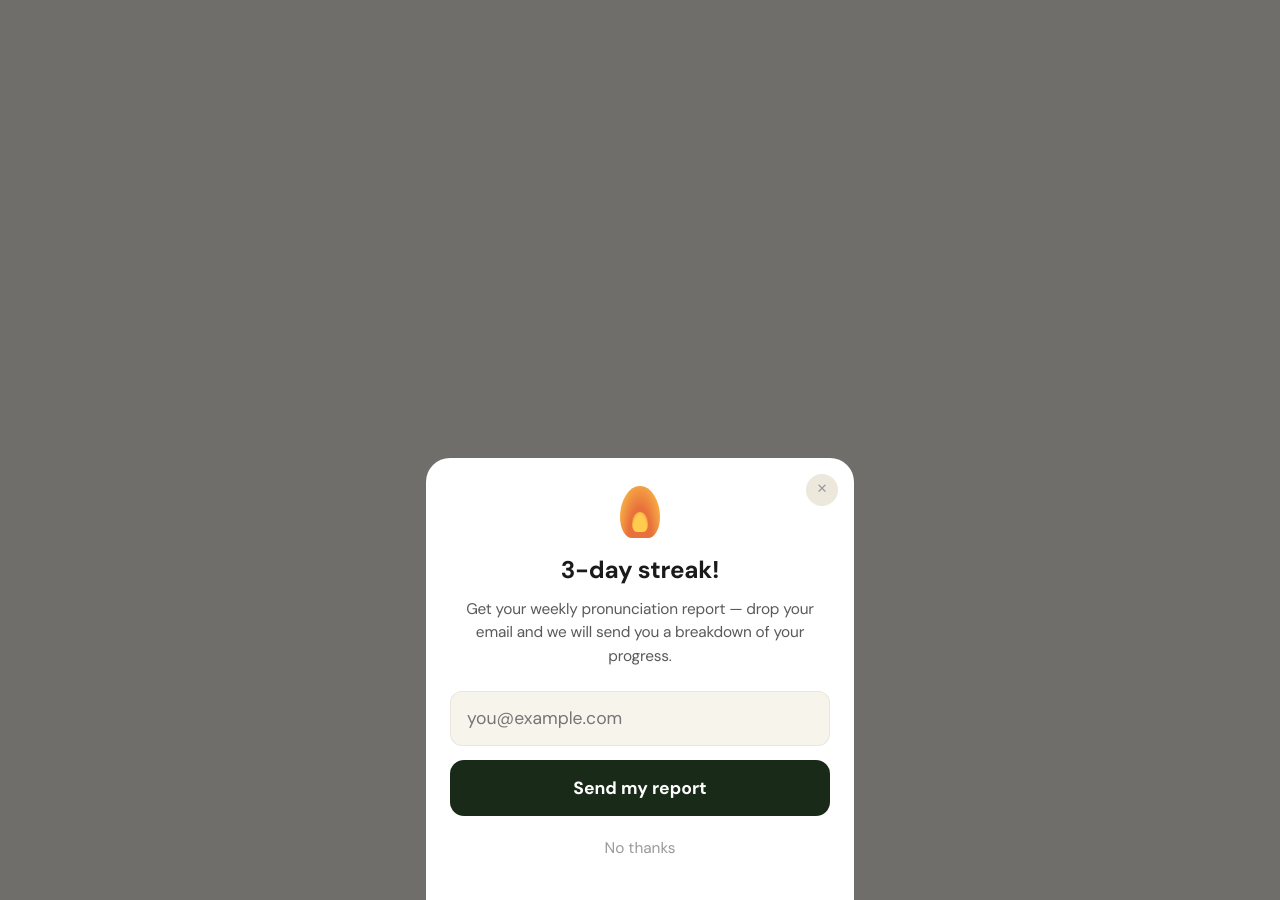
it: EmailCaptureModal › shows validation error for invalid email format
The width and height of the screenshot is (1280, 900).
Type "notanemail" into the field named "email address" at x=640, y=718, box [450,691,830,746]
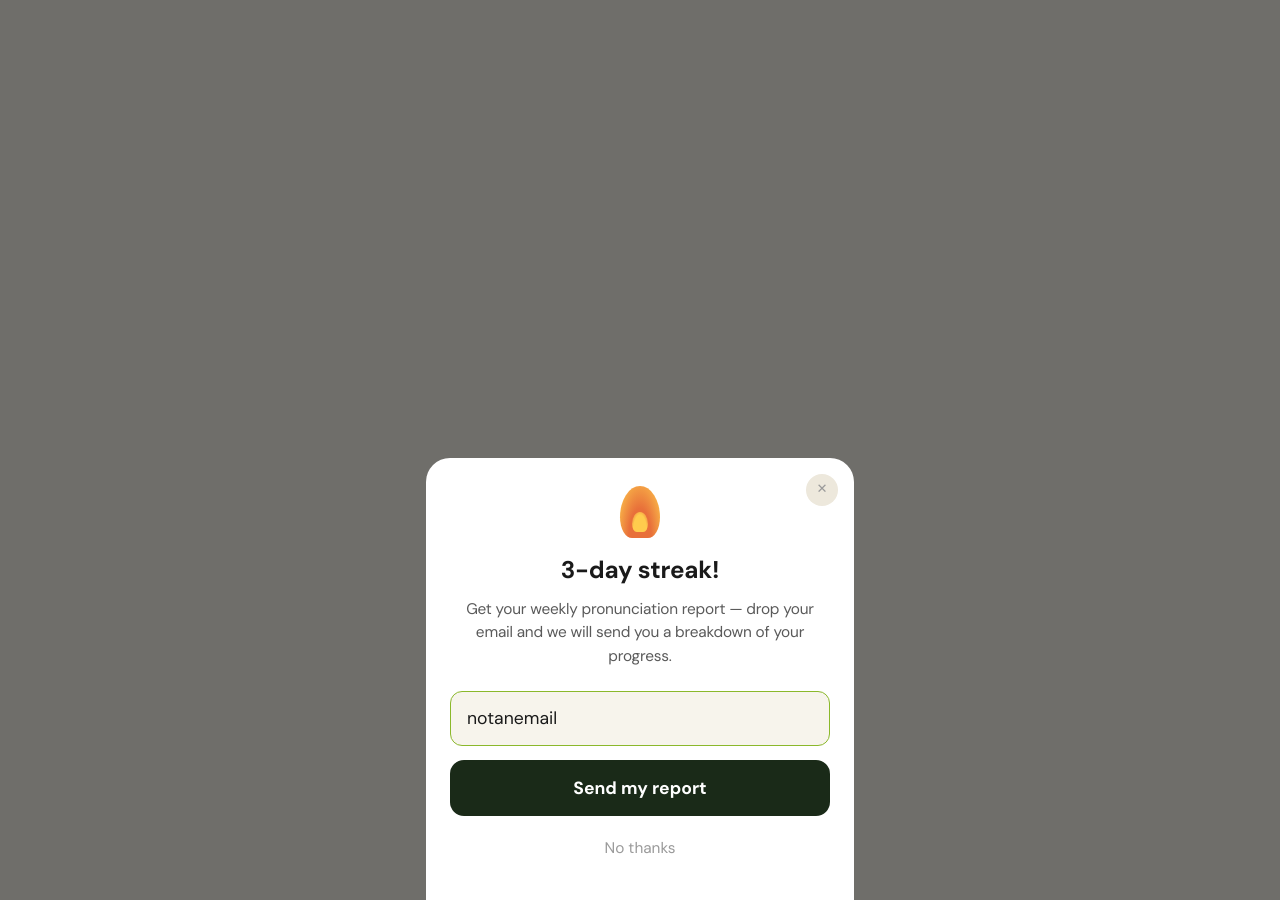
Click the button "Send my report" at x=640, y=788, box [450,760,830,816]
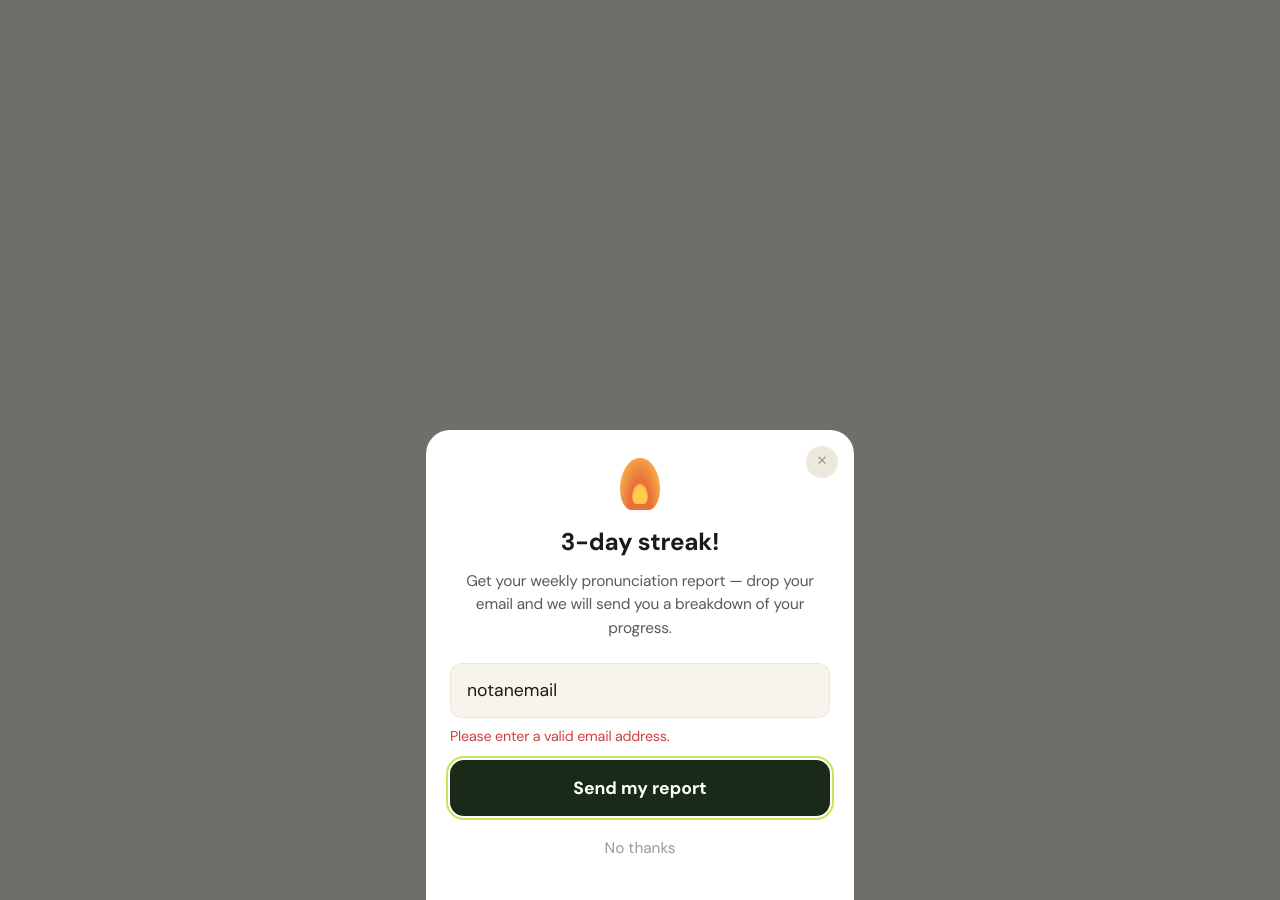
Expected: the message shows "valid email", [450,727,669,745]
